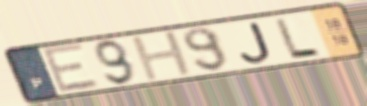9: (181, 26, 231, 74), (94, 39, 140, 87)
E: (38, 42, 103, 96)
H: (128, 28, 196, 84)
J: (237, 20, 274, 65)
L: (272, 16, 324, 59)
